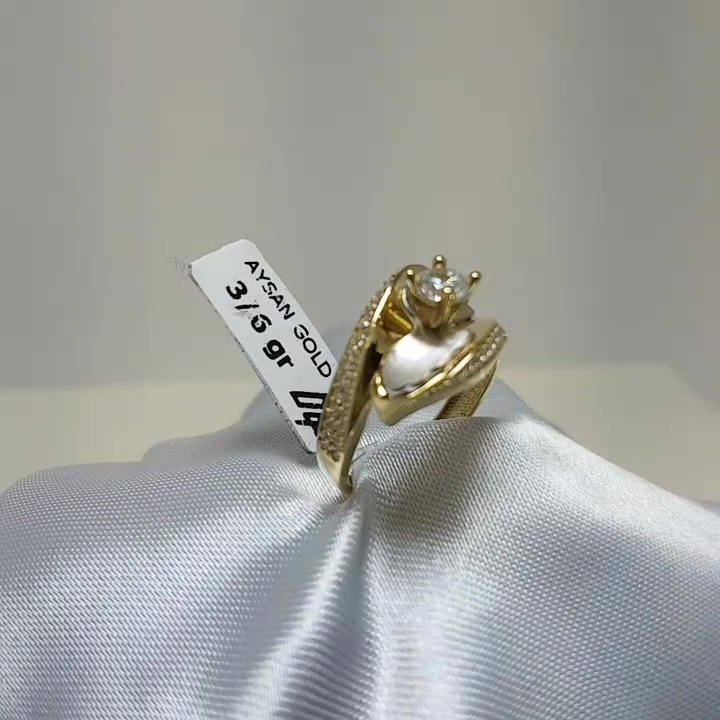Ring 6: (304, 225, 511, 501)
